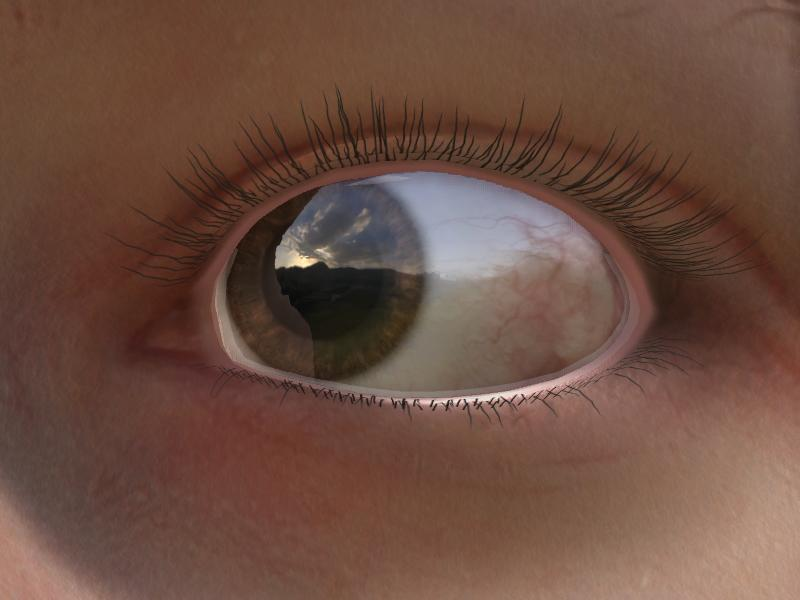eye: (221, 177, 433, 385)
